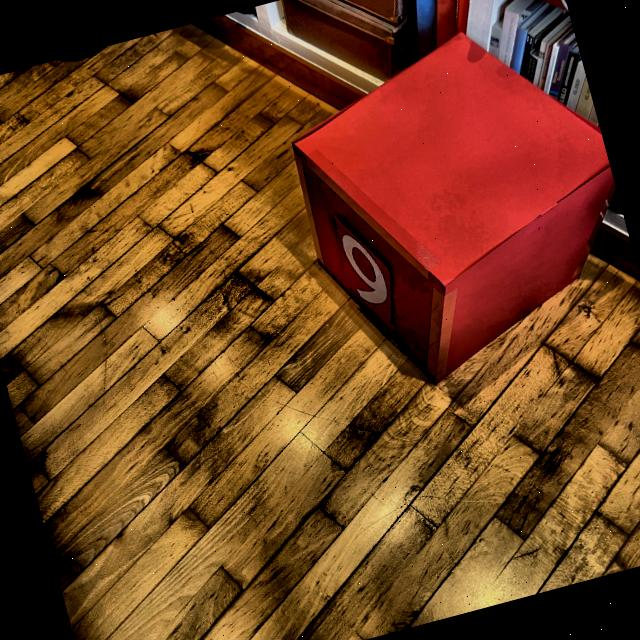nine: (335, 224, 394, 314)
red box: (272, 5, 640, 407)
